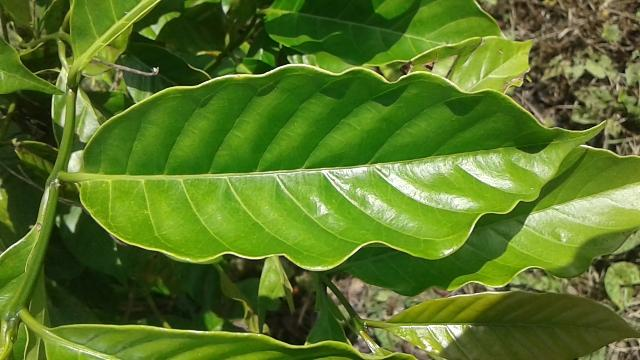healthy: (74, 60, 613, 270)
